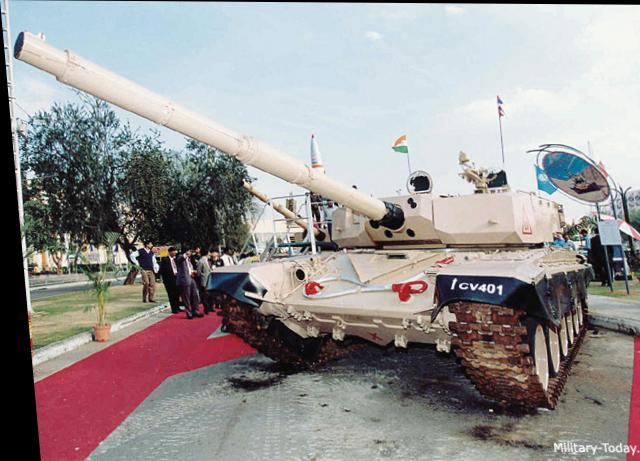other: (127, 238, 155, 303), (152, 246, 176, 307), (174, 245, 194, 315)
tank: (210, 182, 593, 397)
